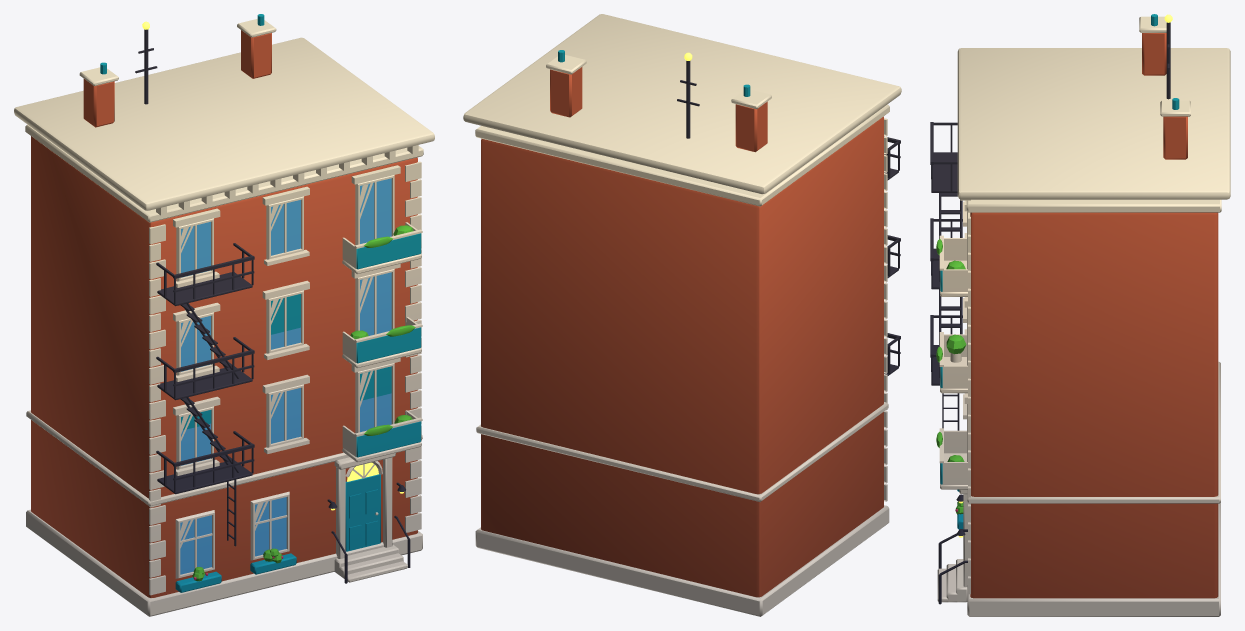
File: apartment.glb
The picture shows the model from 3 angles, left to right: view 1: azimuth 30°, elevation 25°; view 2: azimuth 150°, elevation 25°; view 3: azimuth 270°, elevation 25°; orthographic projection. The views are drawn at different scales.
Parts seen in each view (by area): view 1: apartment; view 2: apartment; view 3: apartment.
Boxes of the visible parts, box(x1,y1,x2,y2) form: apartment: box(14, 14, 434, 616); apartment: box(463, 14, 901, 616); apartment: box(930, 14, 1230, 616).
Bounding box in the file's own units: 9.7 × 15.98 × 8.48.
